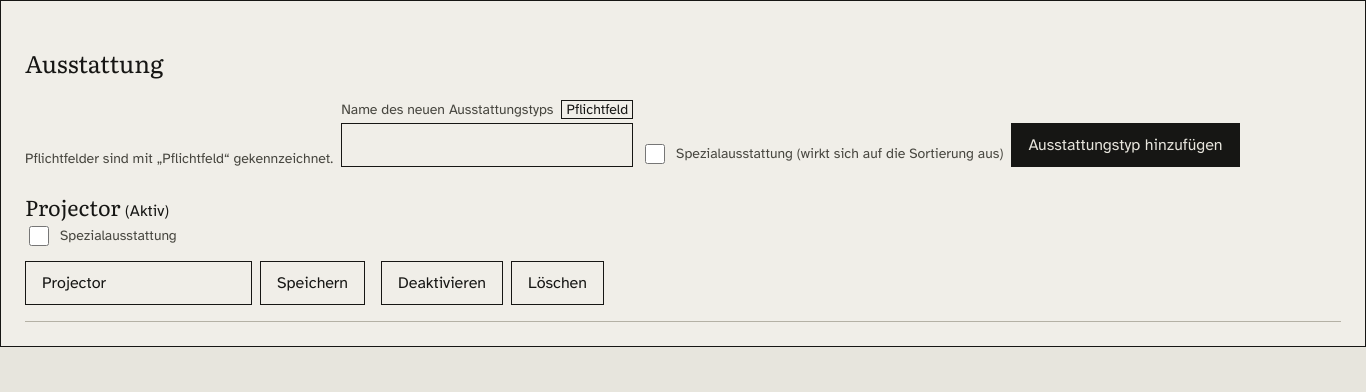
Test: EquipmentCatalog › shows an explanatory message when delete is blocked because the type is assigned
Check: the text "Projector" is shown, box [25,191,121,223]
Click the button with aria-label "ausstattungstyp projector löschen". click: (558, 283)
box: [511,261,604,305]
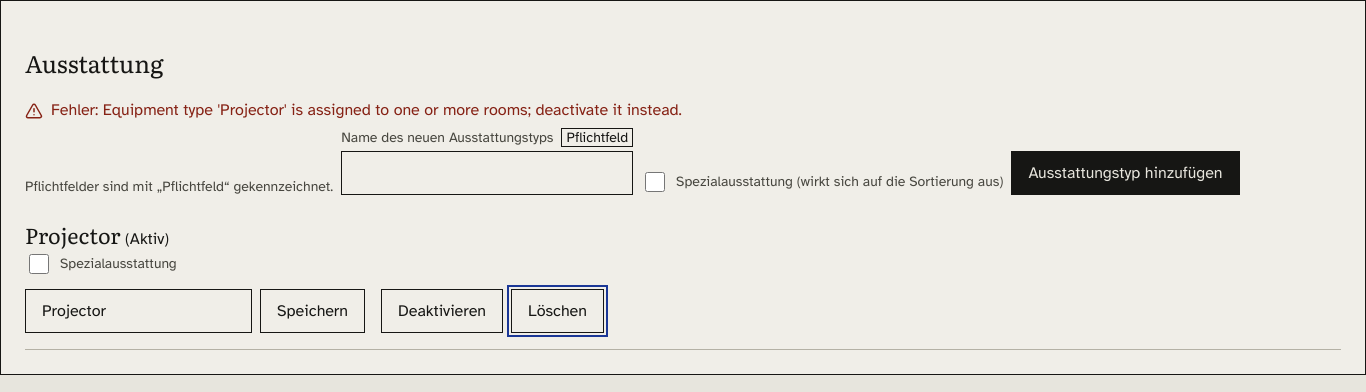
Check: the text "assigned to one or more rooms" is shown, box [103,100,682,120]
